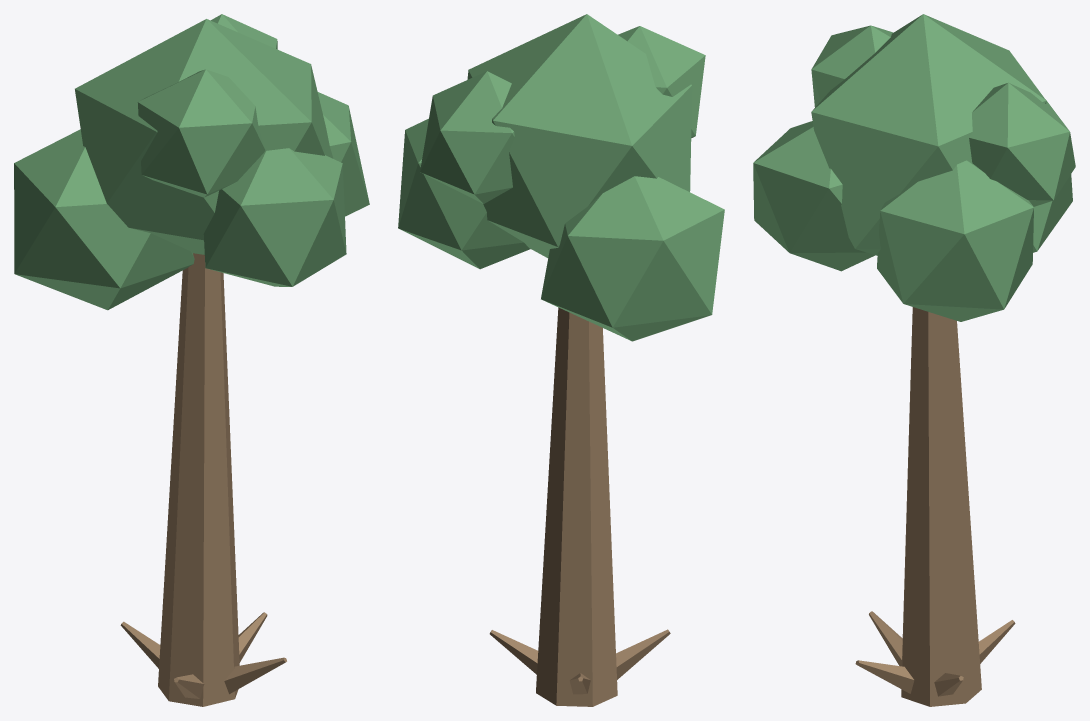
File: tree.glb
3 renders of one model, left to right at view 1: azimuth 30°, elevation 25°; view 2: azimuth 150°, elevation 25°; view 3: azimuth 270°, elevation 25°, orthographic.
Visible parts, largest first — view 1: trunk, leaf, leaf.002, leaf.003, leaf.004, leaf.001, root.003, leaf.005, root.001; view 2: leaf, trunk, leaf.002, leaf.005, leaf.001, leaf.004, root.002, root; view 3: leaf, trunk, leaf.001, leaf.003, leaf.005, leaf.004, leaf.002, root.003, root.002, root.001.
Boxes of the visible parts, x1,y1,x2,y2 form: trunk: [158, 253, 239, 706]; leaf: [75, 19, 333, 254]; leaf.002: [14, 129, 194, 310]; leaf.003: [203, 148, 346, 286]; leaf.004: [137, 69, 265, 197]; leaf.001: [317, 92, 369, 216]; root.003: [224, 657, 286, 694]; leaf.005: [210, 14, 277, 49]; root.001: [120, 621, 160, 668]; leaf: [467, 14, 692, 257]; trunk: [536, 307, 617, 706]; leaf.002: [541, 176, 724, 341]; leaf.005: [420, 71, 514, 203]; leaf.001: [398, 118, 530, 269]; leaf.004: [618, 26, 705, 137]; root.002: [616, 629, 670, 679]; root: [489, 630, 538, 674]; leaf: [811, 14, 1046, 255]; trunk: [901, 307, 981, 706]; leaf.001: [877, 160, 1033, 321]; leaf.003: [753, 121, 875, 271]; leaf.005: [969, 82, 1075, 206]; leaf.004: [811, 25, 893, 107]; leaf.002: [1033, 174, 1072, 252]; root.003: [855, 660, 914, 693]; root.002: [869, 611, 902, 666]; root.001: [978, 620, 1015, 663].
Size of the model in its own units: 5.43 by 11.02 by 4.72.
